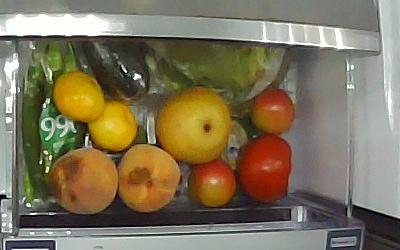peach: (47, 145, 117, 213), (115, 142, 181, 212)
pear: (153, 84, 231, 164)
prune: (247, 86, 295, 134)
tangerine: (86, 97, 138, 151), (52, 69, 104, 121)
tomato: (234, 132, 292, 202), (186, 156, 237, 208)
